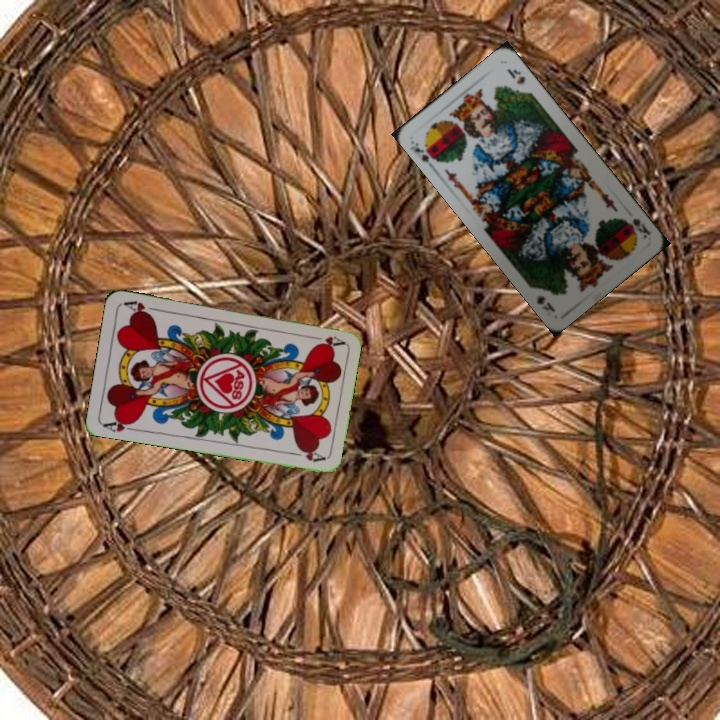HA: (100, 414, 140, 434), (305, 331, 346, 348)
SK: (407, 137, 443, 172), (620, 214, 654, 242)
